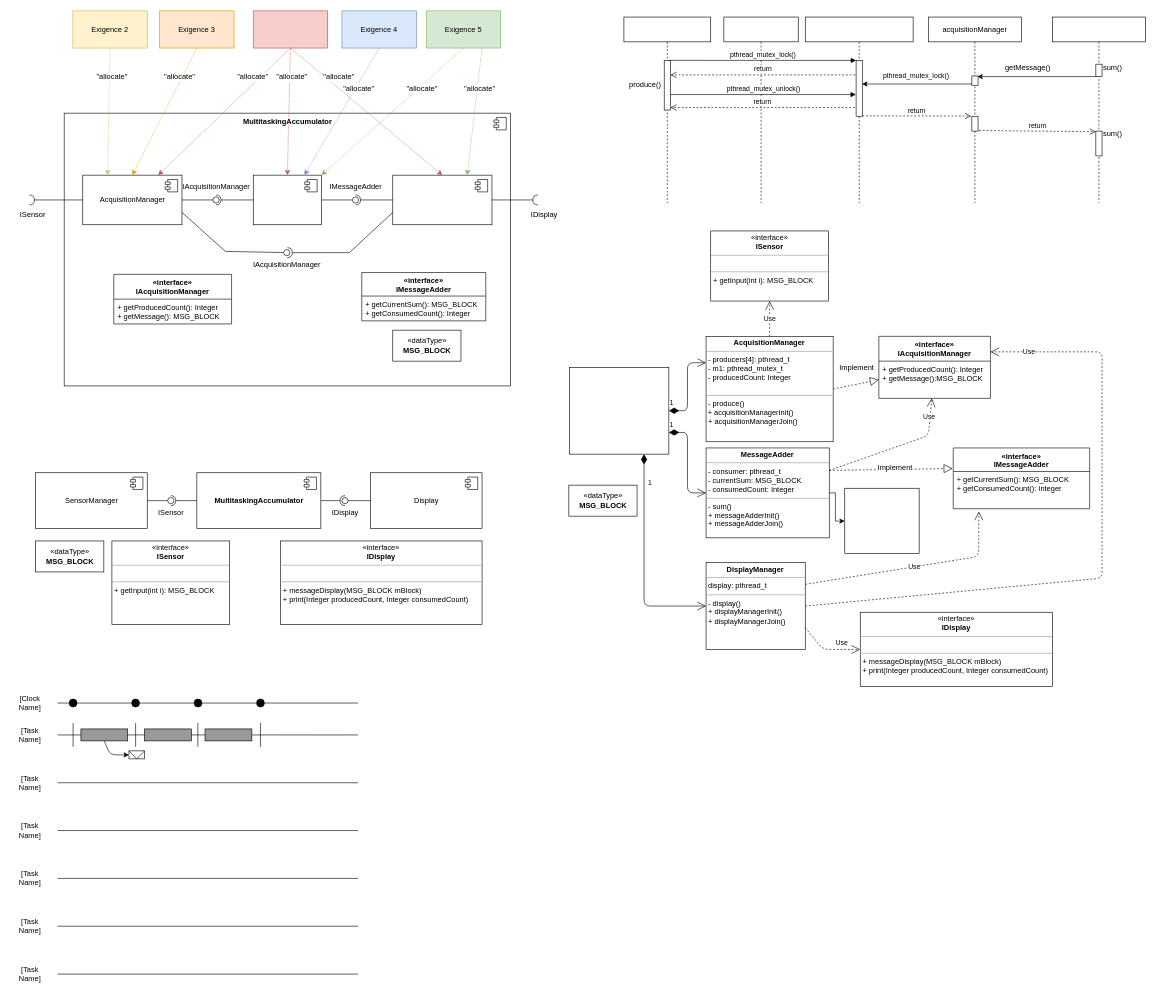
The diagram is 1162 pixels wide and 994 high, and some of its shapes have lost their labels. Here are the shapes that lost their labels. From the top down, the box of each, then its label:
(253, 10, 328, 48): Exigence 1
(623, 16, 711, 203): producer1:pthread_t
(723, 16, 798, 203): producer2:pthread_t
(805, 16, 913, 203): m1: pthread_mutex_t
(1052, 16, 1145, 203): consumer:pthread_t
(253, 175, 321, 225): MessageAdder
(392, 175, 492, 225): DisplayManager
(569, 367, 669, 454): MultitaskingAccumulator + main()
(844, 488, 919, 553): Msg - messageAdd() - messageCheck()
